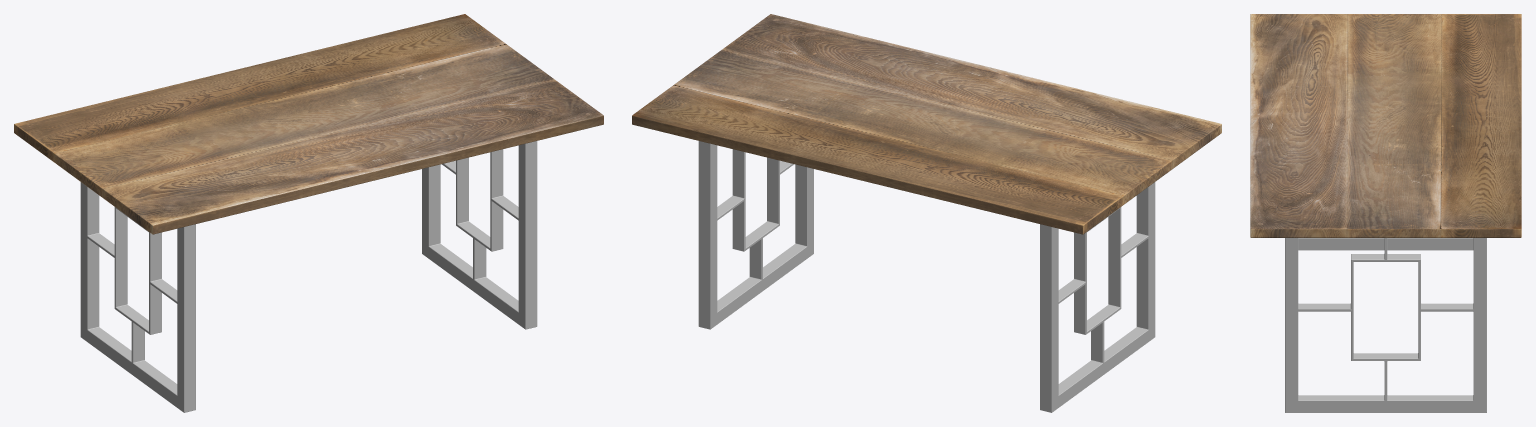
The model's file is Industrial Table_1_sketchfab.fbx.
3 views of the same model, side by side, from view 1: azimuth 30°, elevation 25°; view 2: azimuth 150°, elevation 25°; view 3: azimuth 270°, elevation 25° (orthographic). The views are drawn at different scales.
Visible parts, largest first — view 1: Industrial Table; view 2: Industrial Table; view 3: Industrial Table.
Boxes of the visible parts, box(x1,y1,x2,y2) form: Industrial Table: box(14, 14, 603, 412); Industrial Table: box(632, 14, 1221, 412); Industrial Table: box(1250, 14, 1521, 412).
Size of the model in its own units: 150 by 67.5 by 80.
